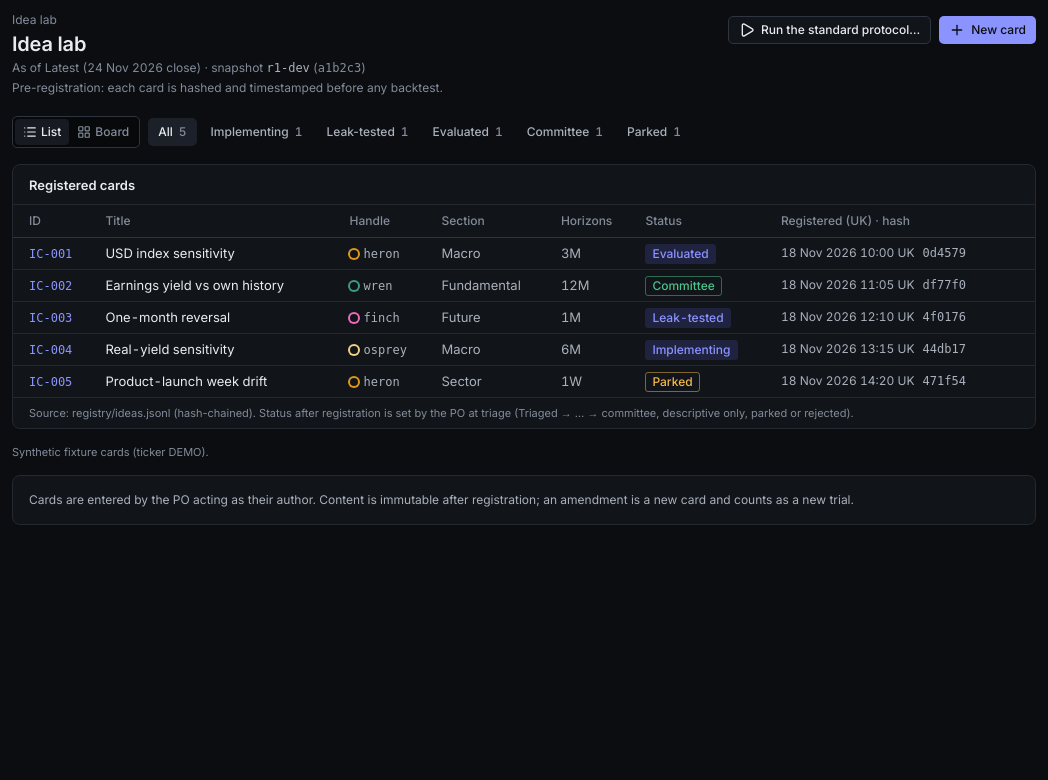
Test: Idea lab (ux-spec §4.11) › lists registered cards and shows the board
Expected: the link "USD index sensitivity" is shown, x1=105 y1=245 x2=235 y2=261
Expected: the number of links "IC-001" is 5, x1=29 y1=247 x2=72 y2=261; x1=29 y1=279 x2=72 y2=293; x1=29 y1=311 x2=72 y2=325; x1=29 y1=343 x2=72 y2=357; x1=29 y1=375 x2=72 y2=389
Step 1. Click the radio button labelled "Board" → click(103, 132), box x1=69 y1=119 x2=137 y2=145
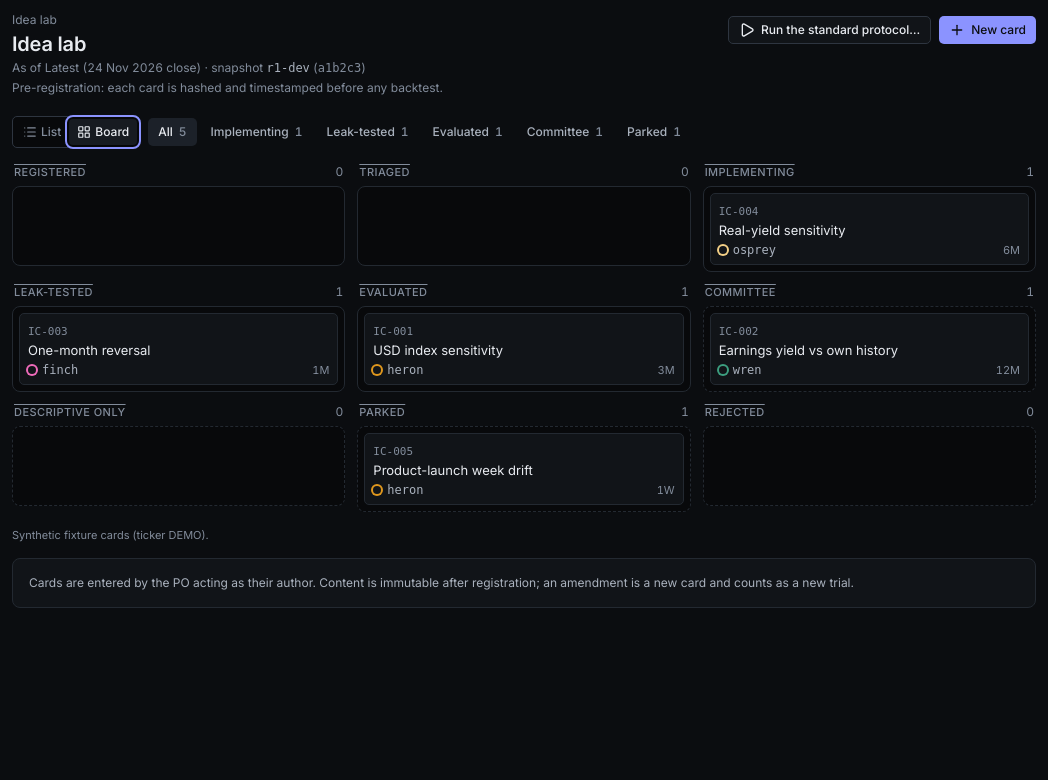
Expected: the element named "Committee: 1" is shown, x1=703 y1=284 x2=1036 y2=392
